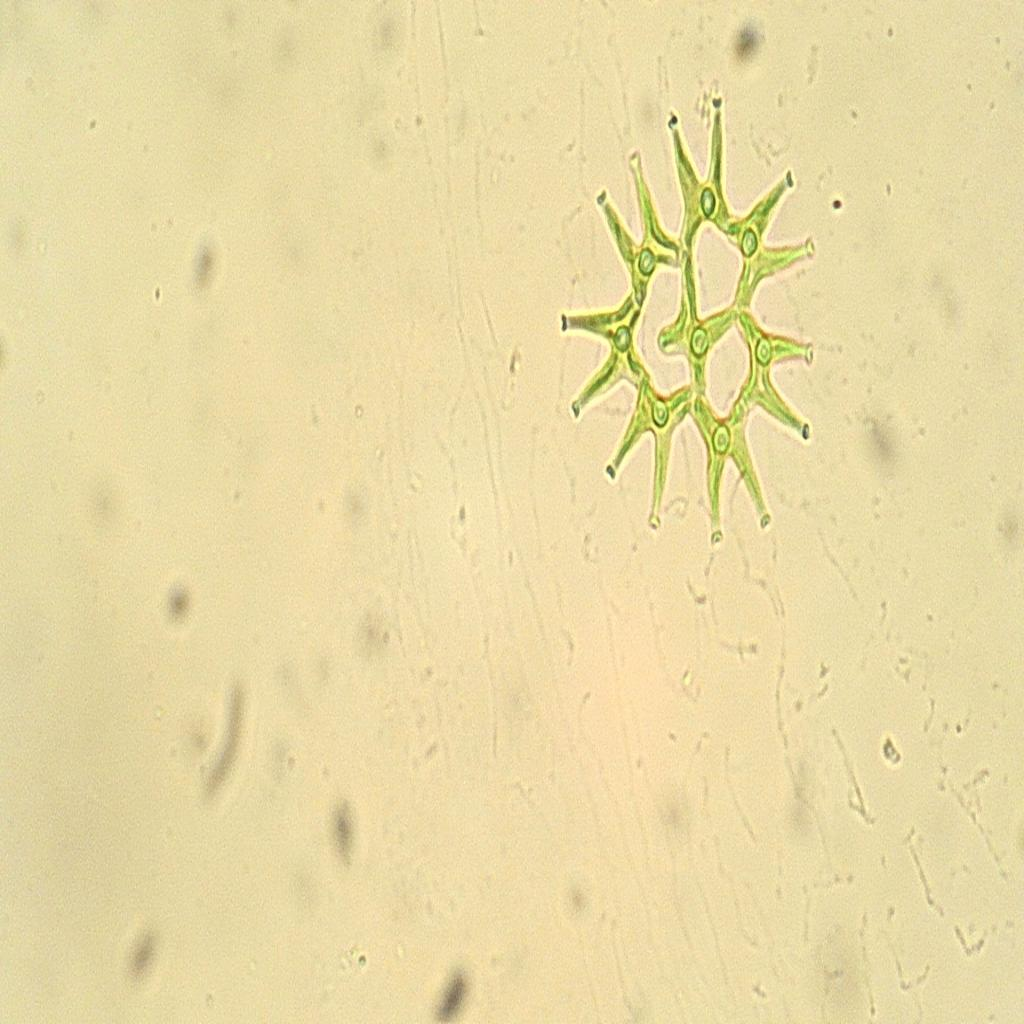Pediastrum_75T: (543, 79, 836, 552)
